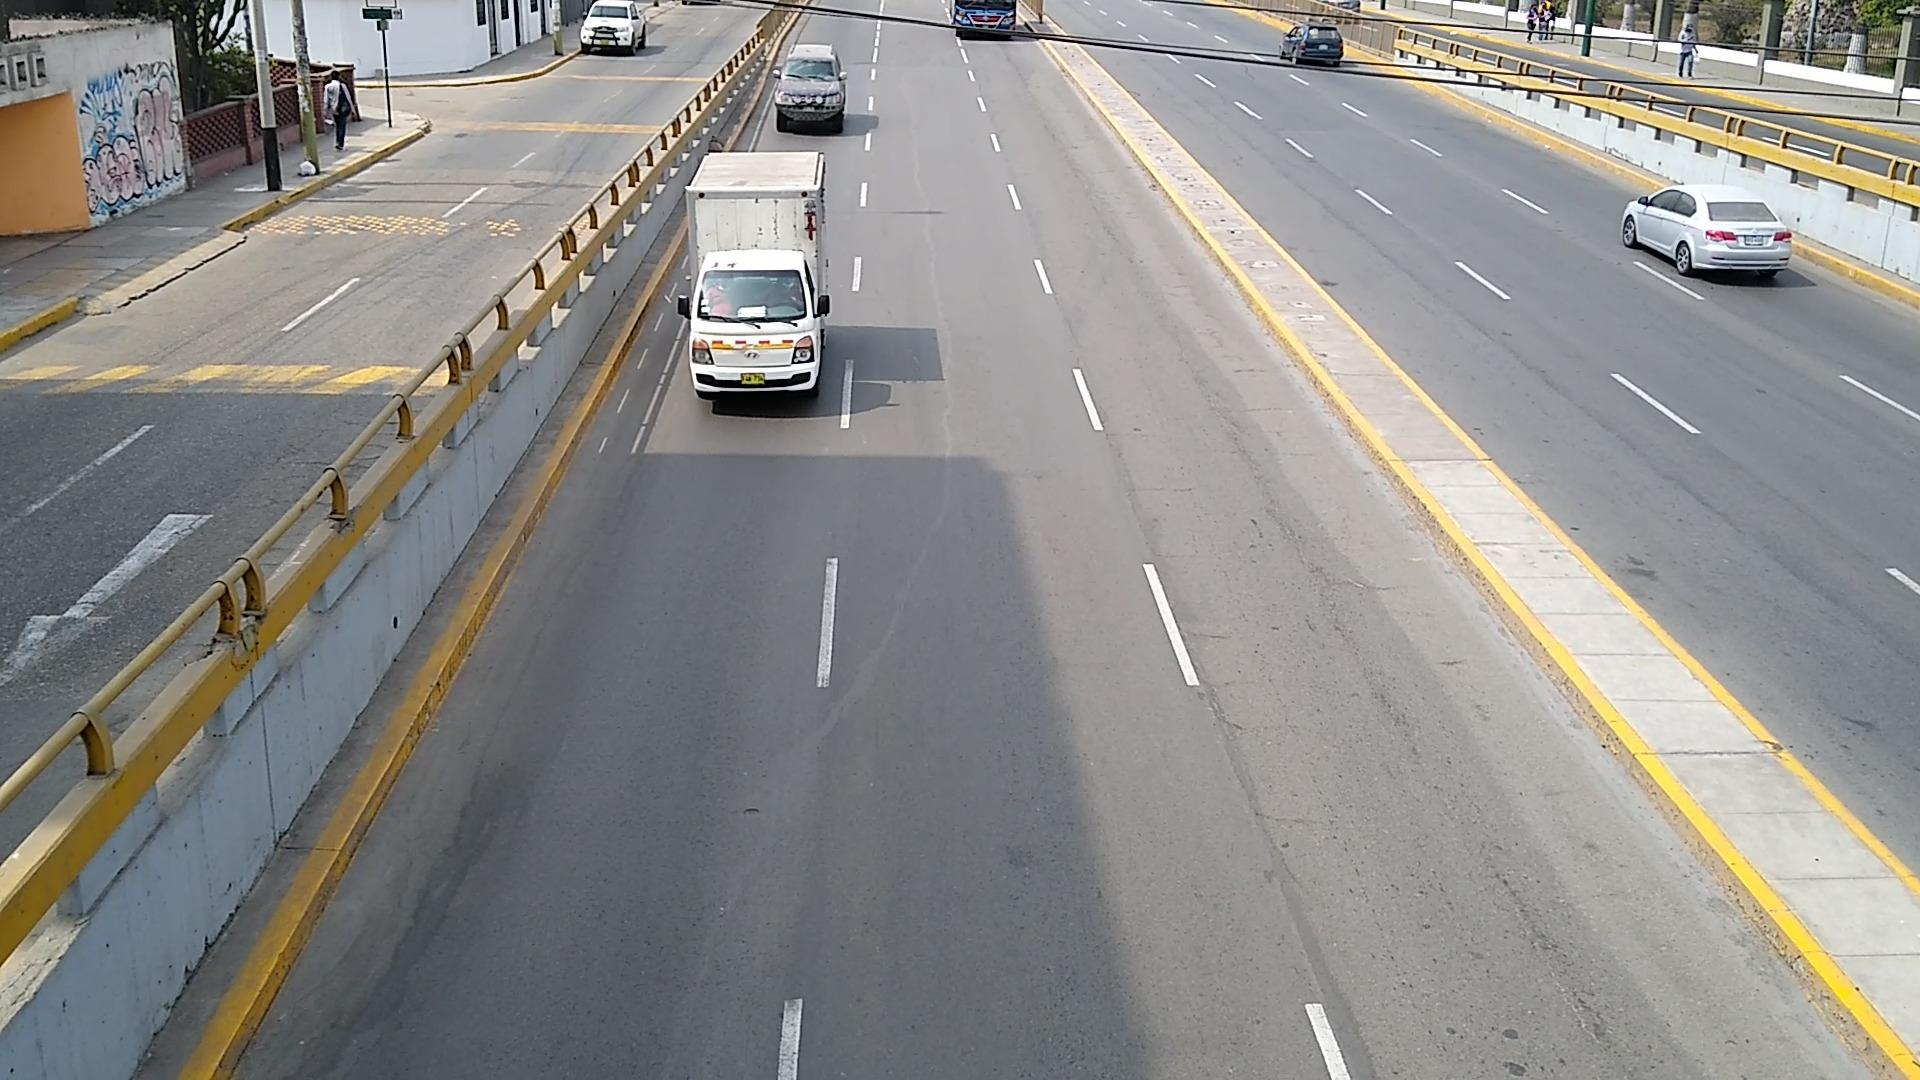car: (1619, 183, 1792, 277), (773, 45, 848, 132), (582, 0, 649, 50)
lorry: (675, 154, 828, 401)
